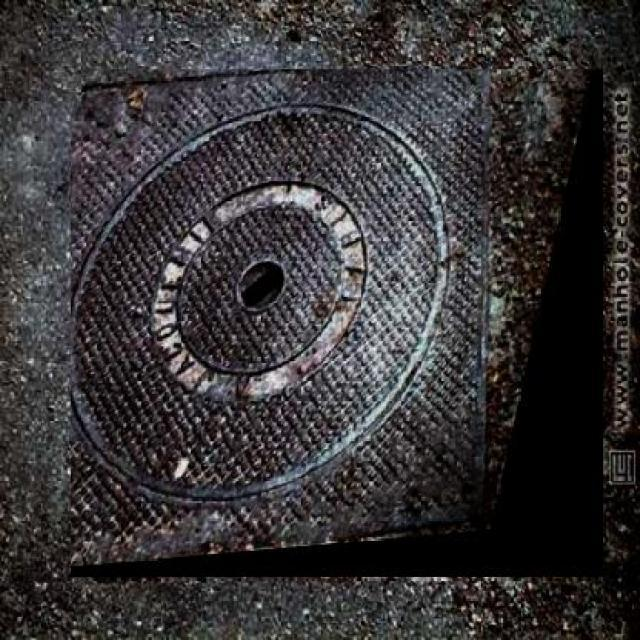Manhole: (71, 69, 604, 577)
